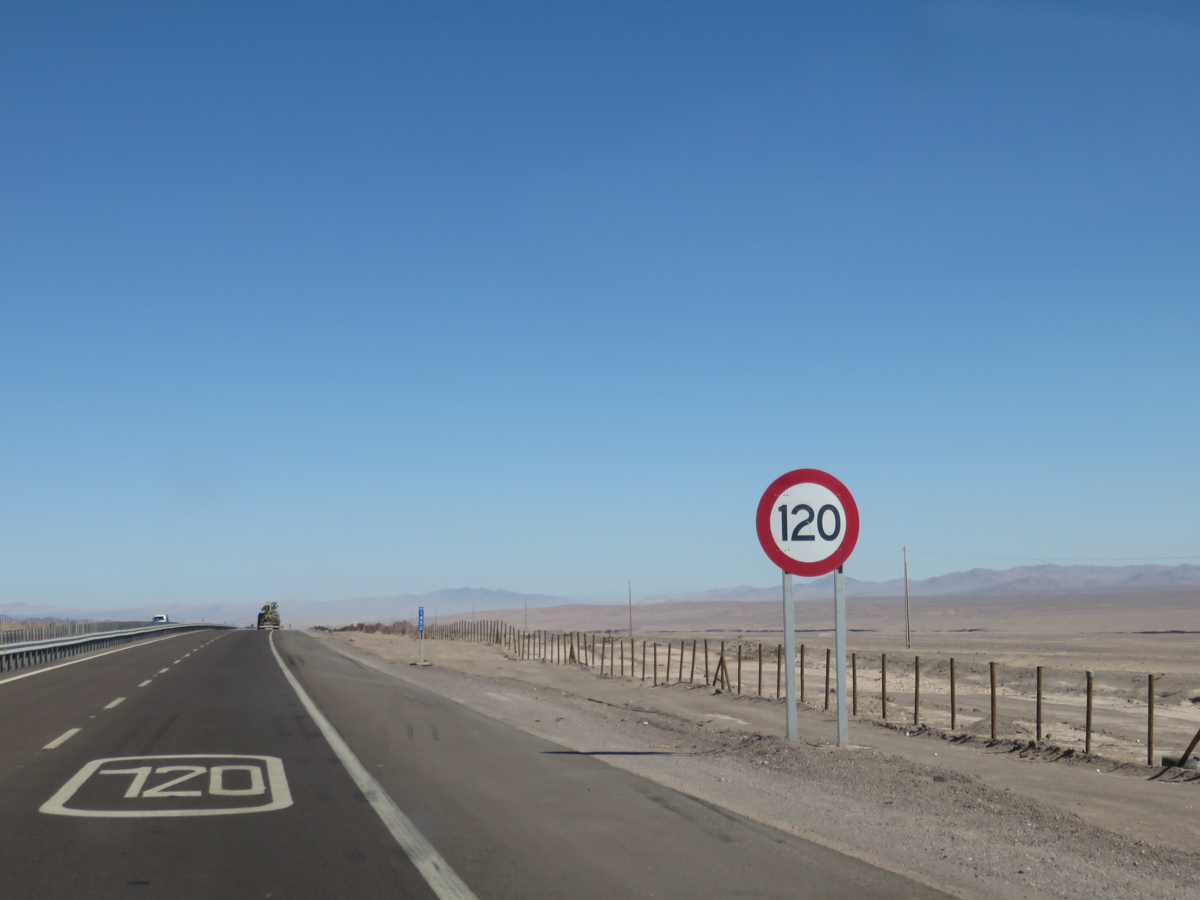Speed_limit_120km: (751, 467, 865, 577)
